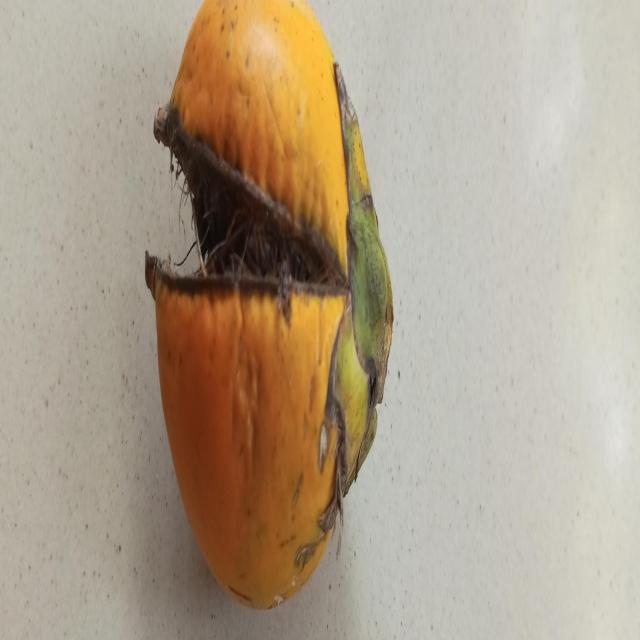damaged: (145, 0, 394, 608)
